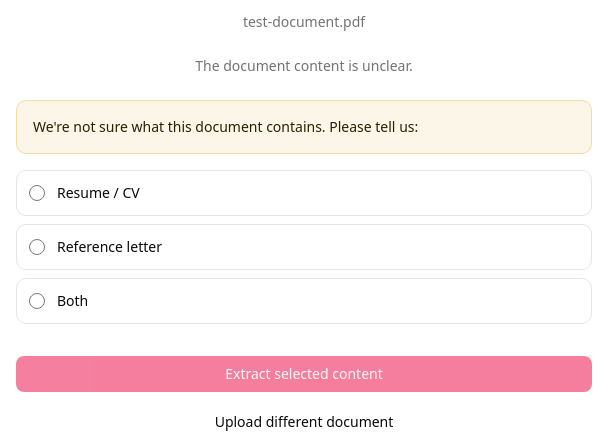
Scenario: DetectionResults › Low confidence detection › enables proceed button after selecting resume
The image size is (609, 448).
What coordinates should you click on to do the following:
click the radio button labelled "Resume / CV"
I would click on:
 (37, 193)
Its box is [29,185,45,201].
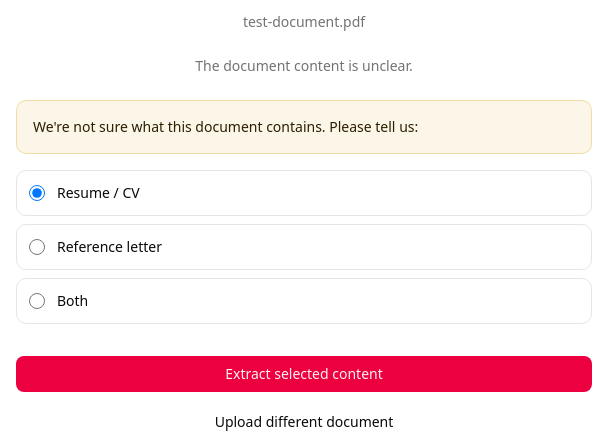
Result: the button "Extract selected content" is enabled at [16,356,592,392]
